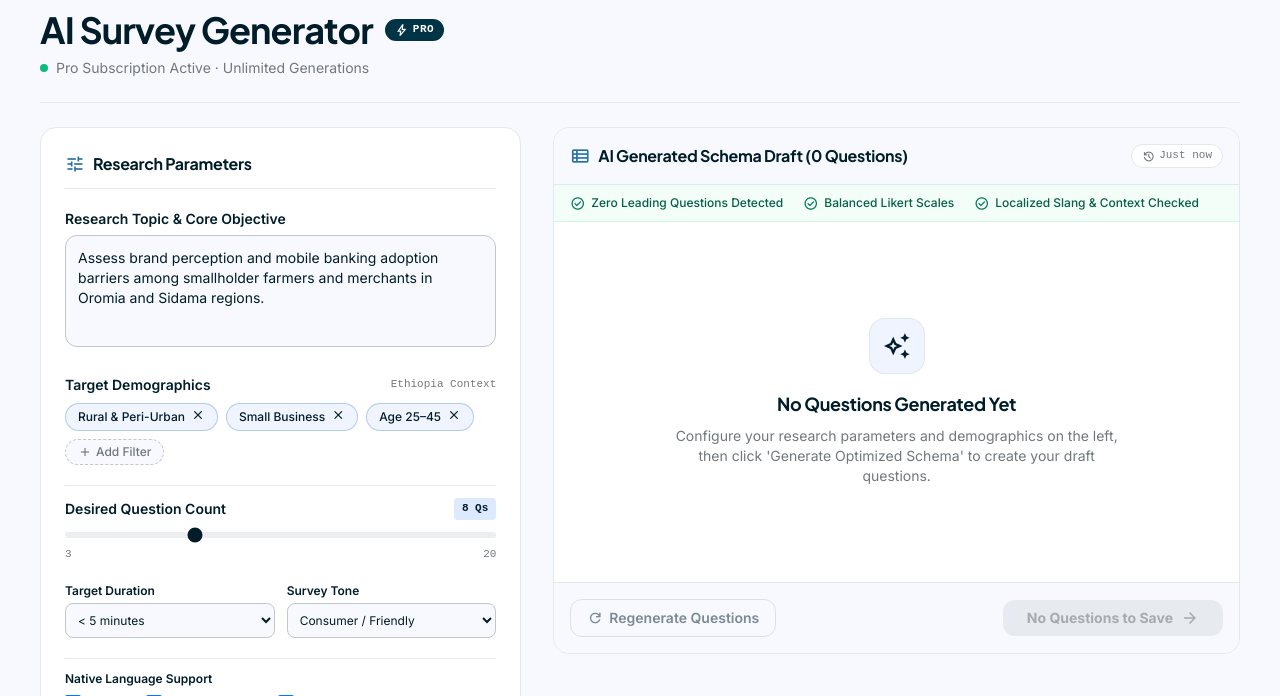
Test: SurveyAiPage (§4.3.4 AI Survey Generator Dedicated Page) › initializes empty and enables save button only after AI questions are generated
The width and height of the screenshot is (1280, 696).
Expected: the heading "No Questions Generated Yet" is shown, [777, 390, 1016, 418]
Expected: the button "No Questions to Save" is disabled, [1003, 600, 1223, 636]
Replace the text in the text box with placeholder "Assess brand perception" with "Mobile banking adoption study": (281,291) [65, 235, 496, 347]
(page scrolled)
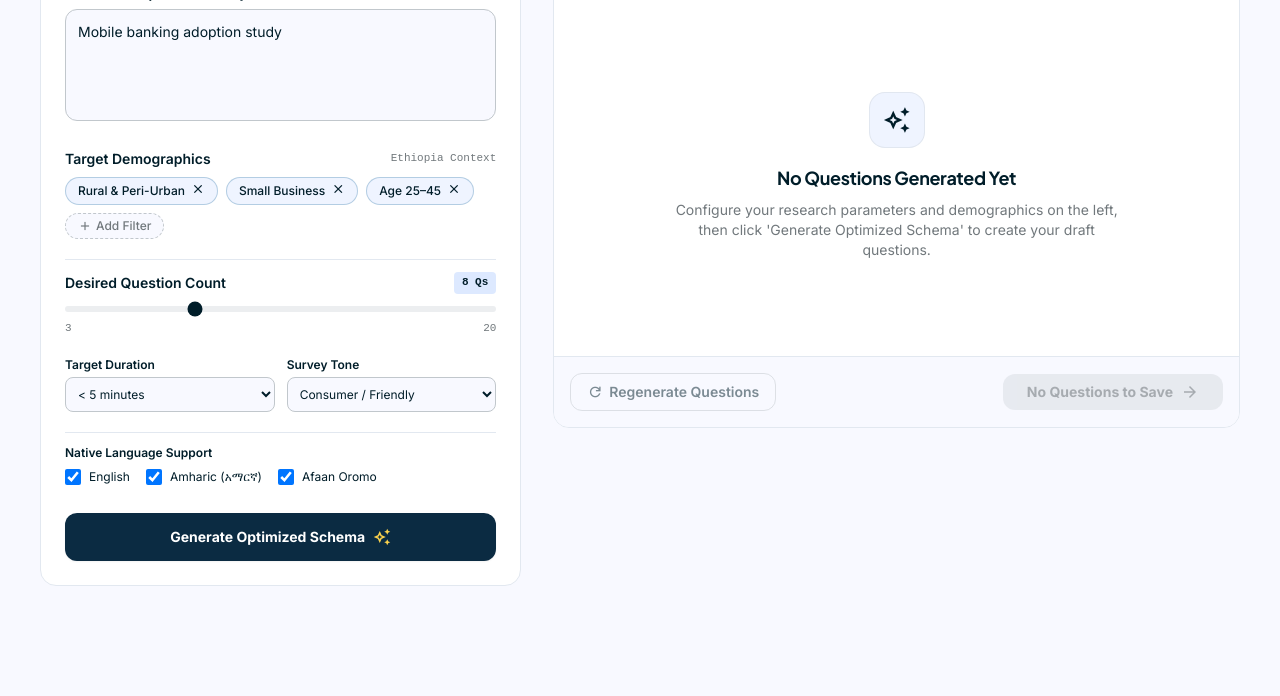
Click the text "Generate Optimized Schema": (268,537) [170, 527, 365, 547]
(page scrolled)
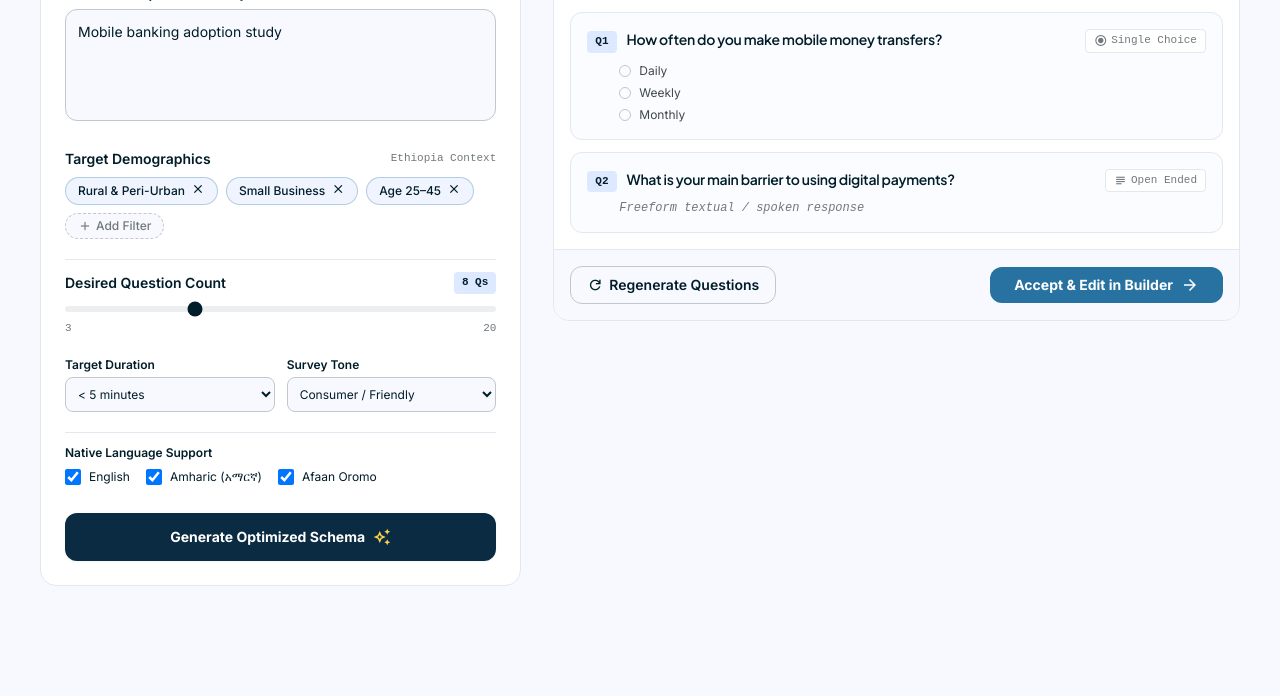
Expected: the heading "How often do you make mobile money transfers?" is shown, [626, 29, 942, 53]
Expected: the heading "What is your main barrier to using digital payments?" is shown, [626, 169, 955, 192]
Expected: the button "Accept & Edit in Builder" is enabled, [990, 267, 1223, 303]
